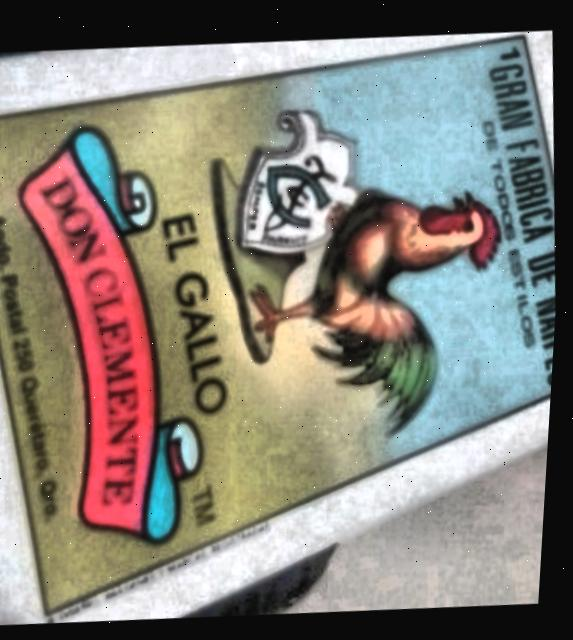El Gallo: (0, 35, 559, 616)
